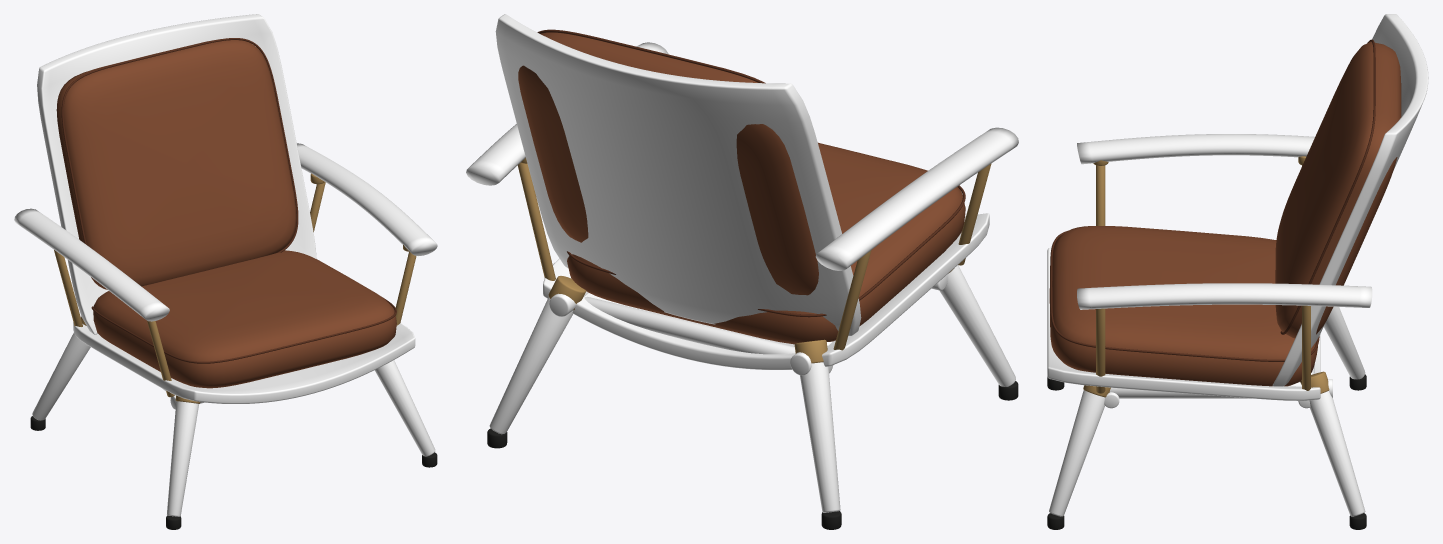
File: chair.glb
3 renders of one model, left to right at view 1: azimuth 30°, elevation 25°; view 2: azimuth 150°, elevation 25°; view 3: azimuth 270°, elevation 25°, orthographic. The views are drawn at different scales.
Parts seen in each view (by area): view 1: back_cushion, seat_cushion, timber_back, timber_seat, arm_left, arm_right, leg_front_left, leg_front_right, leg_rear_left, back_cushion_piping, seat_cushion_piping, arm_support_rear_left (+2 smaller); view 2: timber_back, back_cushion, seat_cushion, timber_seat, arm_left, leg_rear_left, cross_brace_0.28, leg_rear_right, leg_front_left, arm_right, arm_support_rear_right, arm_support_rear_left (+3 smaller); view 3: seat_cushion, back_cushion, timber_back, arm_right, arm_left, timber_seat, leg_front_right, leg_rear_right, leg_rear_left, seat_cushion_piping, underframe_right, back_cushion_piping (+3 smaller).
Part boxes in pixels (<box>): back_cushion: <box>56,39,296,289</box>; seat_cushion: <box>93,250,396,388</box>; timber_back: <box>37,14,316,334</box>; timber_seat: <box>73,322,415,403</box>; arm_left: <box>14,208,169,321</box>; arm_right: <box>297,143,437,255</box>; leg_front_left: <box>167,401,198,516</box>; leg_front_right: <box>374,360,435,456</box>; leg_rear_left: <box>32,332,90,420</box>; back_cushion_piping: <box>61,38,298,252</box>; seat_cushion_piping: <box>91,297,396,363</box>; arm_support_rear_left: <box>54,250,82,326</box>; timber_back: <box>495,14,861,335</box>; back_cushion: <box>518,32,818,295</box>; seat_cushion: <box>567,142,965,344</box>; timber_seat: <box>543,213,989,369</box>; arm_left: <box>815,127,1018,270</box>; leg_rear_left: <box>800,362,840,512</box>; cross_brace_0.28: <box>584,296,833,373</box>; leg_rear_right: <box>489,297,573,434</box>; leg_front_left: <box>939,265,1015,386</box>; arm_right: <box>466,42,668,185</box>; arm_support_rear_right: <box>517,162,555,280</box>; arm_support_rear_left: <box>833,250,871,350</box>; seat_cushion: <box>1049,226,1317,386</box>; back_cushion: <box>1275,42,1401,338</box>; timber_back: <box>1272,14,1428,386</box>; arm_right: <box>1077,283,1372,309</box>; arm_left: <box>1077,134,1314,164</box>; timber_seat: <box>1047,247,1320,400</box>; leg_front_right: <box>1049,390,1104,516</box>; leg_rear_right: <box>1309,391,1365,516</box>; leg_rear_left: <box>1324,306,1365,379</box>; seat_cushion_piping: <box>1050,230,1319,361</box>; underframe_right: <box>1109,379,1332,398</box>; back_cushion_piping: <box>1280,39,1375,334</box>.
Size of the model in its own units: 1.09 by 1.19 by 1.07.
